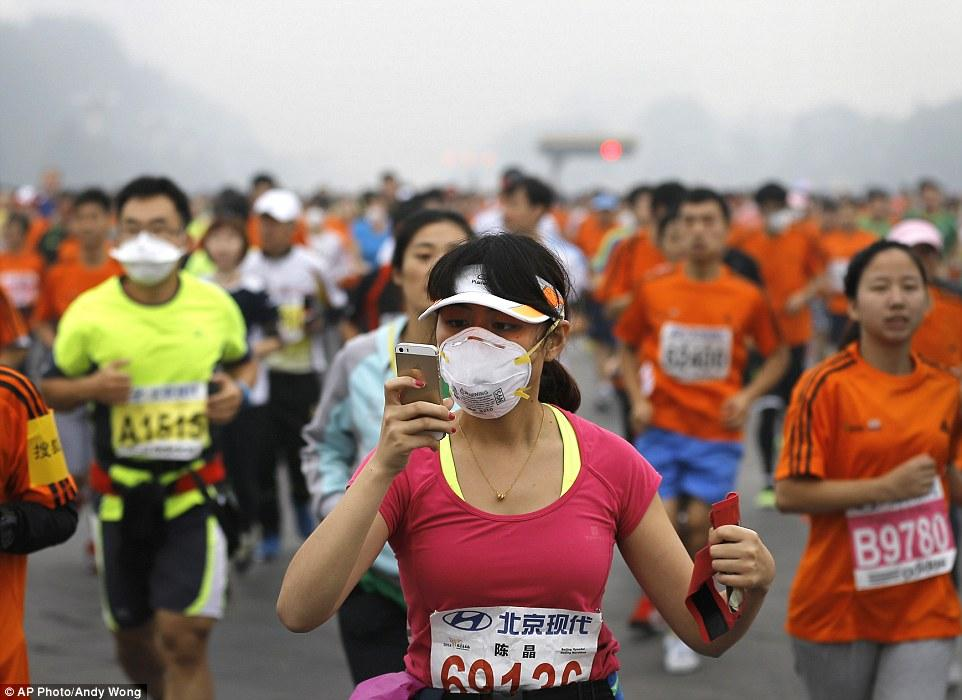Wearing Mask: (402, 243, 589, 453), (89, 172, 212, 309)
